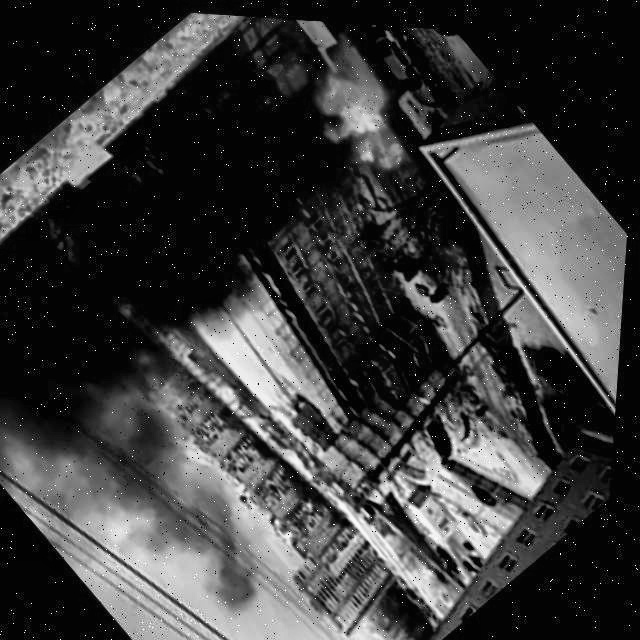Smoke: (0, 36, 388, 510)
